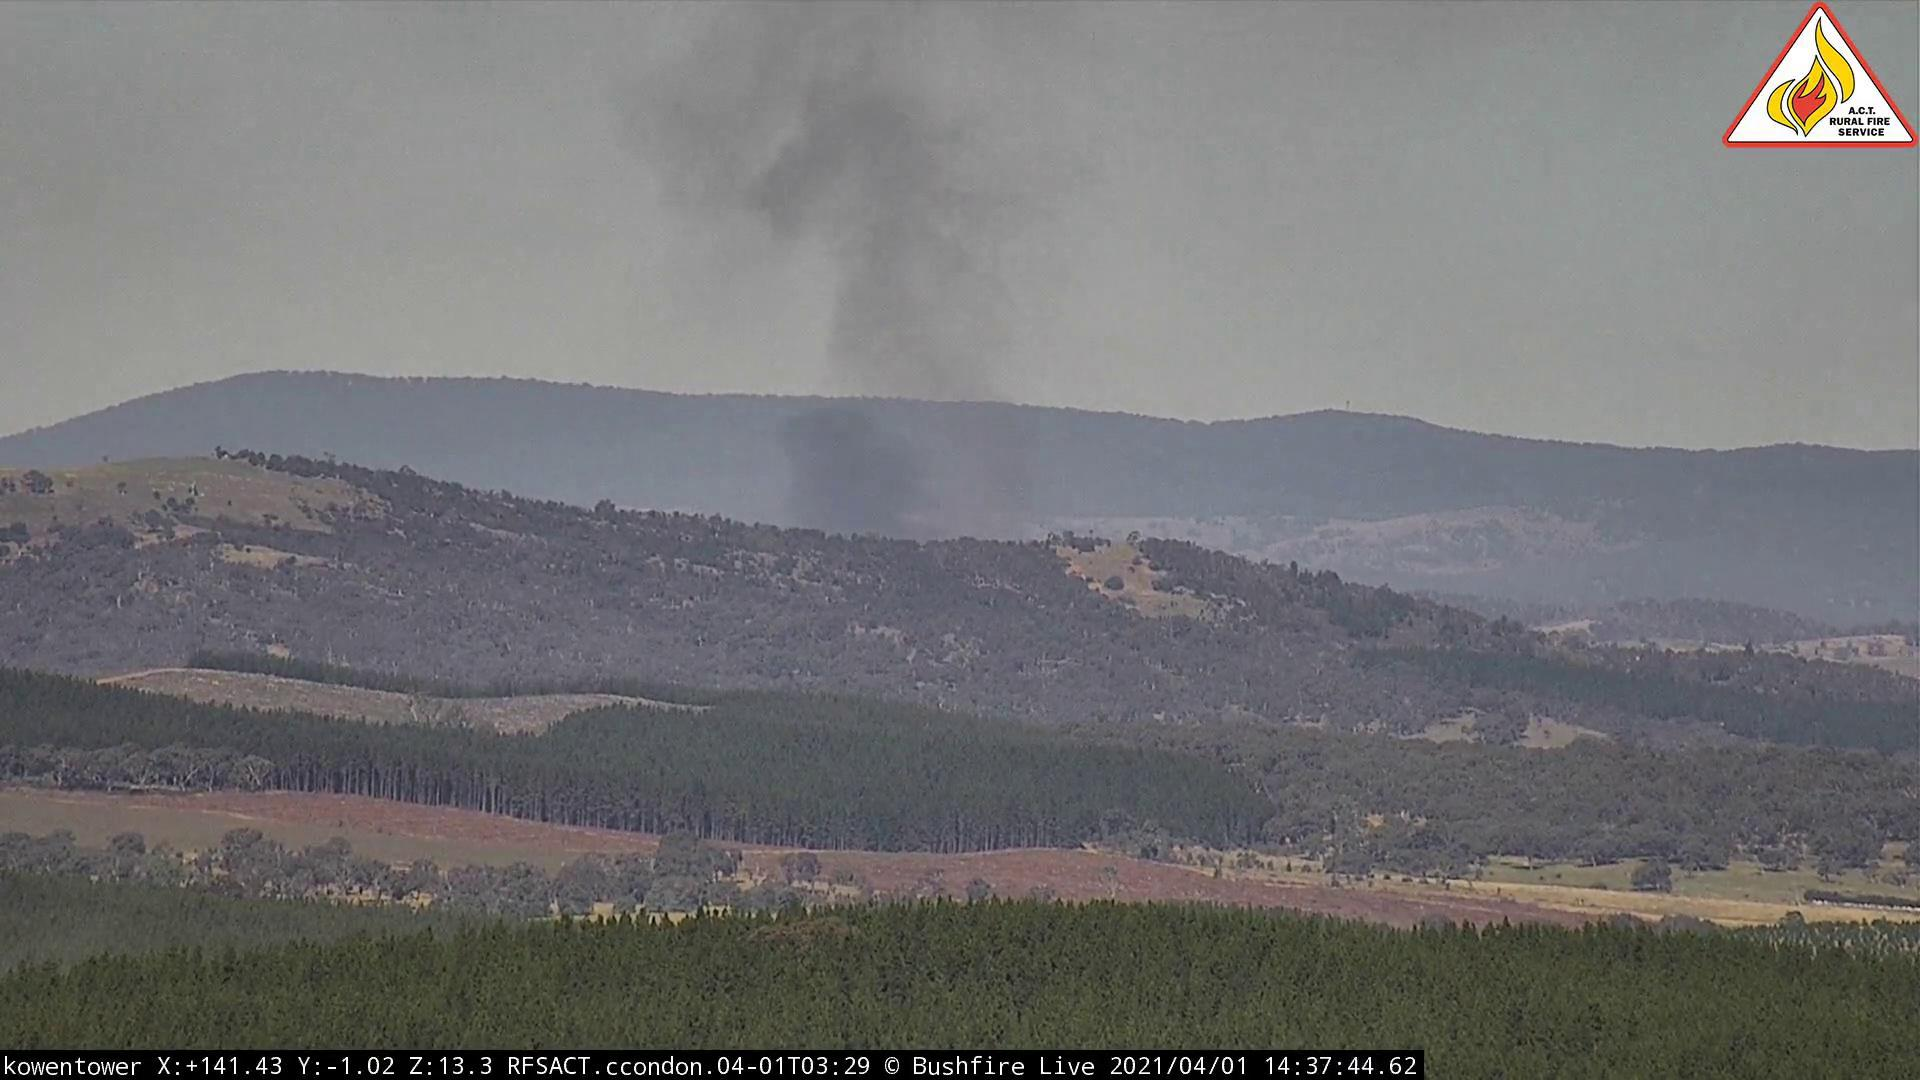Smoke: (578, 3, 1127, 553)
